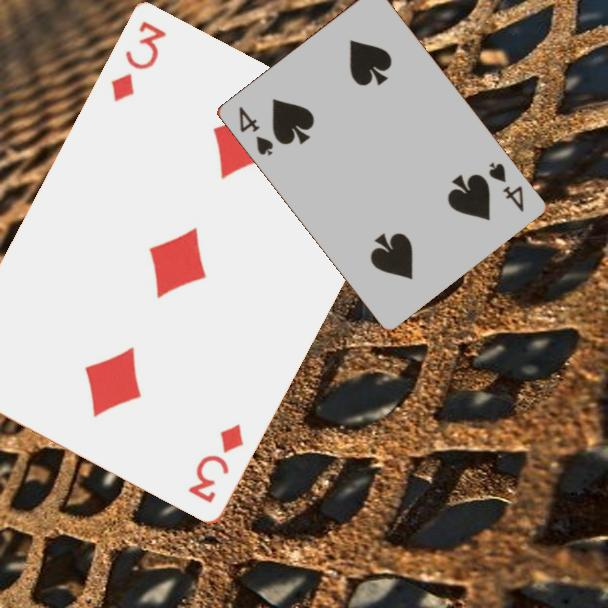d03: (107, 18, 169, 106), (184, 421, 247, 507)
s04: (485, 158, 526, 215), (235, 103, 276, 159)
